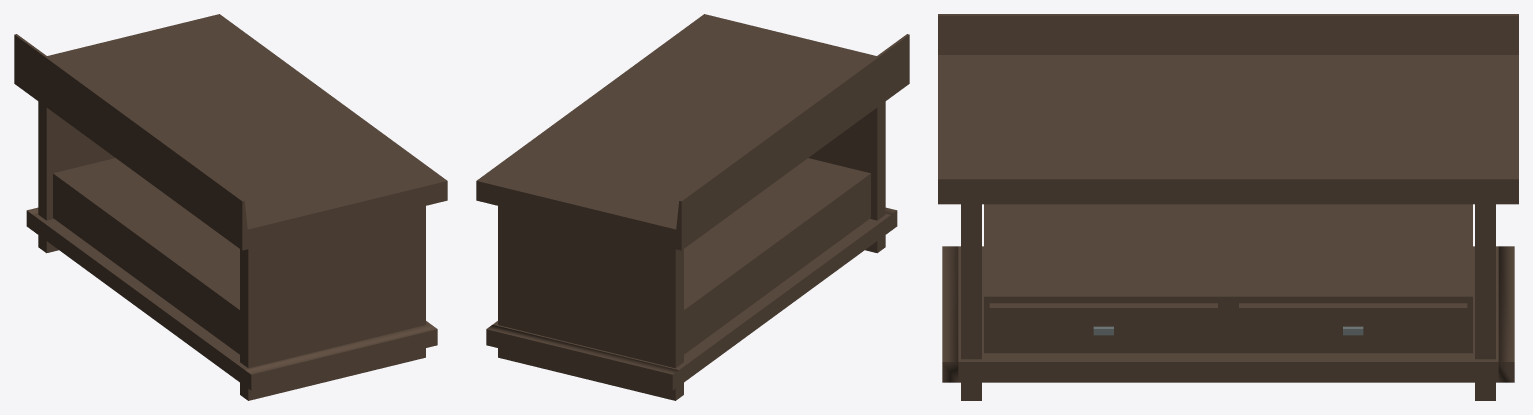
Rendered from table.fbx.
3 renders of one model, left to right at view 1: azimuth 30°, elevation 25°; view 2: azimuth 150°, elevation 25°; view 3: azimuth 270°, elevation 25°, orthographic. The views are drawn at different scales.
Visible parts, largest first — view 1: Cube.001; view 2: Cube.001; view 3: Cube.001.
Boxes of the visible parts, left/top/right/bottom form: Cube.001: left=14, top=14, right=447, bottom=400; Cube.001: left=476, top=14, right=909, bottom=400; Cube.001: left=938, top=14, right=1518, bottom=400.
Bounding box in the file's own units: 393 × 384 × 756.
